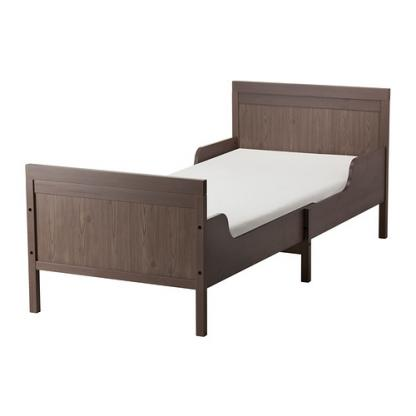Bed: (25, 77, 393, 337)
